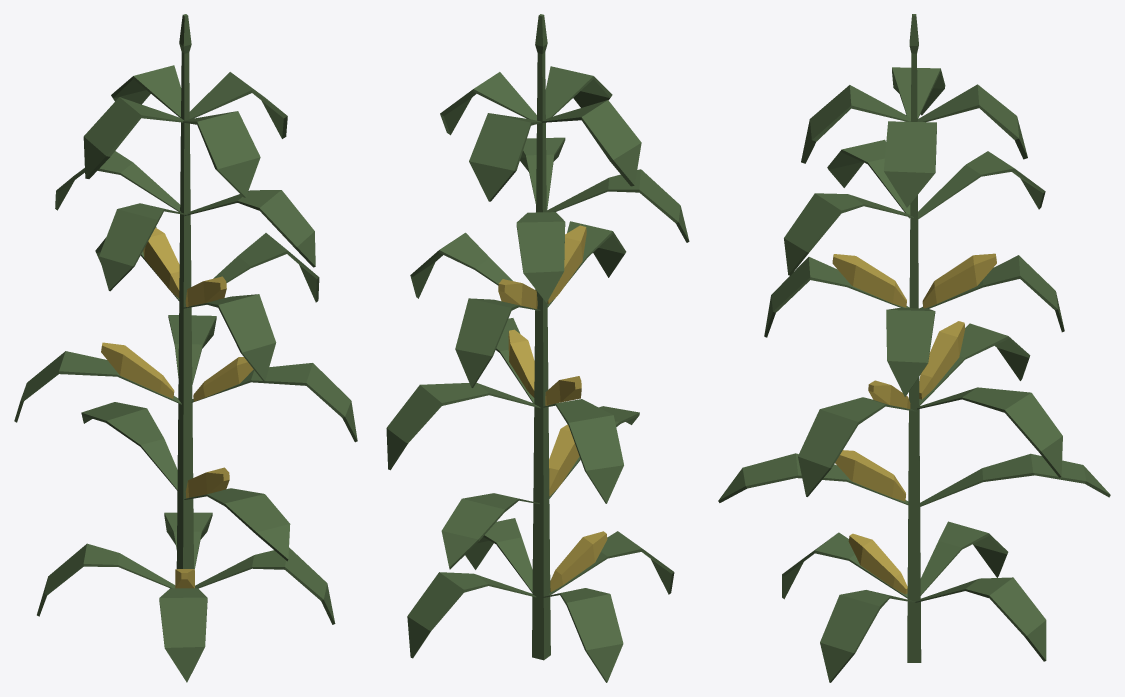
Rendered from corn.fbx.
3 renders of one model, left to right at view 1: azimuth 30°, elevation 25°; view 2: azimuth 150°, elevation 25°; view 3: azimuth 270°, elevation 25°, orthographic.
Visible parts, largest first — view 1: corn; view 2: corn; view 3: corn.
Part boxes in pixels (bbox=[...]): corn: bbox=[14, 14, 357, 682]; corn: bbox=[386, 14, 689, 682]; corn: bbox=[718, 14, 1110, 682].
Size of the model in its own units: 0.8237 by 1.98 by 1.09.
